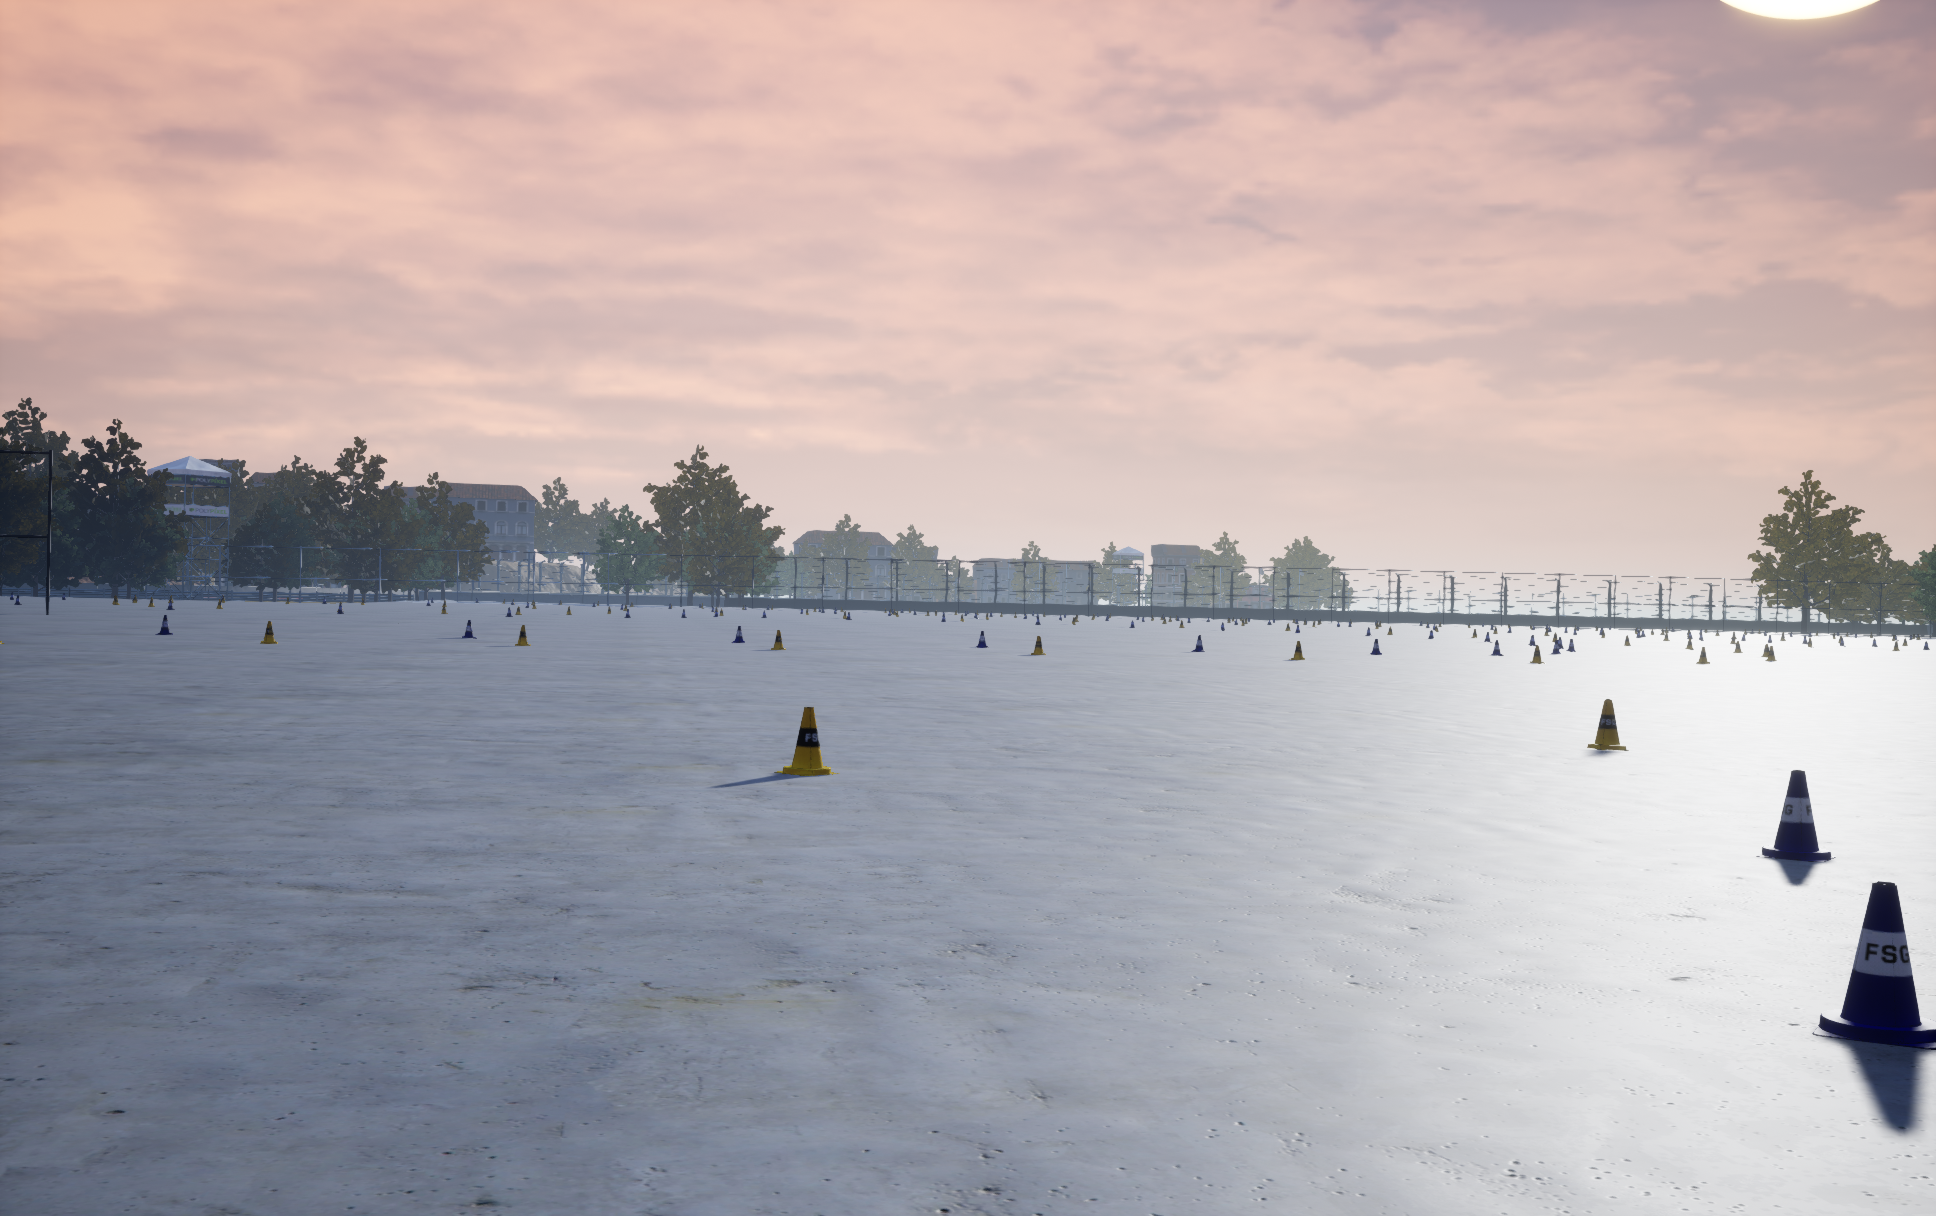blue: (775, 707, 839, 775), (1587, 699, 1628, 749), (261, 621, 277, 643), (516, 625, 530, 644), (1289, 642, 1304, 658), (770, 630, 784, 649), (1031, 636, 1045, 654)
yellow: (1811, 881, 1935, 1049), (1757, 771, 1835, 862), (155, 615, 172, 635)
